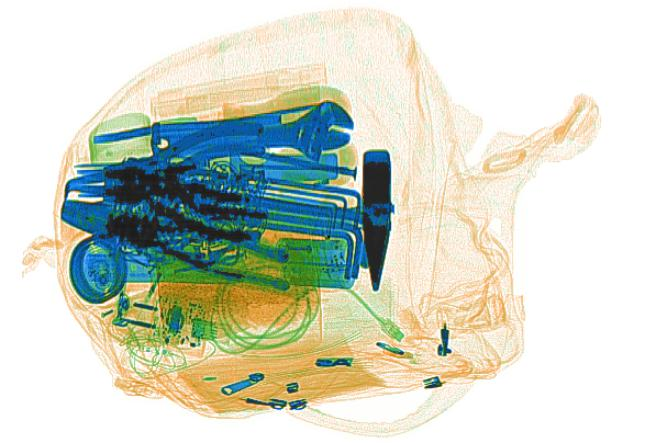battery: (272, 232, 355, 290)
